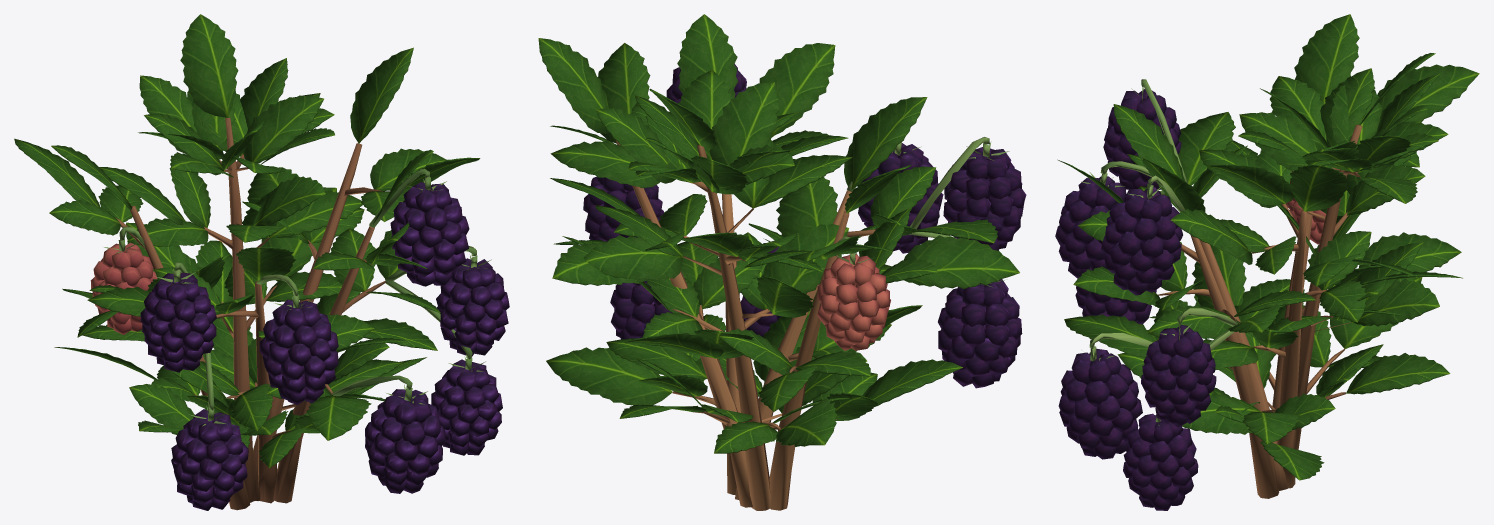
The model's file is NP_Blackberry_Ready.fbx.
3 views of the same model, side by side, from view 1: azimuth 30°, elevation 25°; view 2: azimuth 150°, elevation 25°; view 3: azimuth 270°, elevation 25° (orthographic). The views are drawn at different scales.
Visible parts, largest first — view 1: NP_Blackberry_Ready; view 2: NP_Blackberry_Ready; view 3: NP_Blackberry_Ready.
Part boxes in pixels (bbox=[...]): NP_Blackberry_Ready: bbox=[14, 14, 509, 510]; NP_Blackberry_Ready: bbox=[538, 14, 1026, 510]; NP_Blackberry_Ready: bbox=[1055, 14, 1479, 510].
Size of the model in its own units: 81.01 by 80.47 by 70.16.
